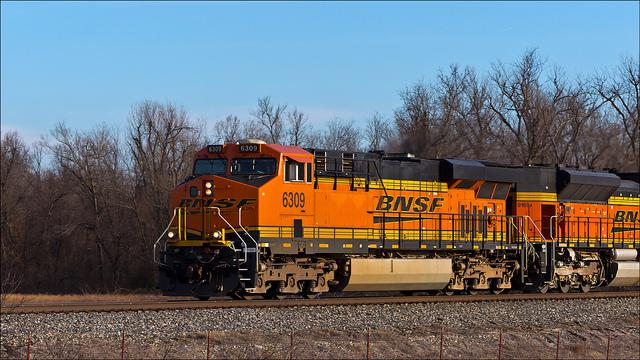Train: (151, 137, 640, 301)
